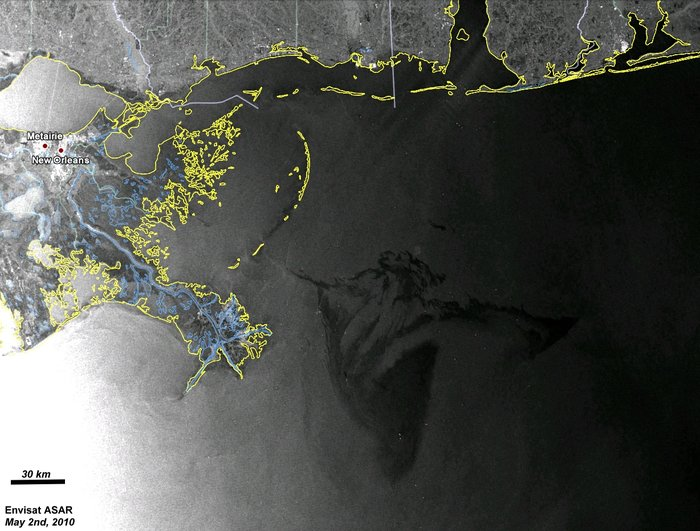anomaly: (288, 262, 591, 494)
